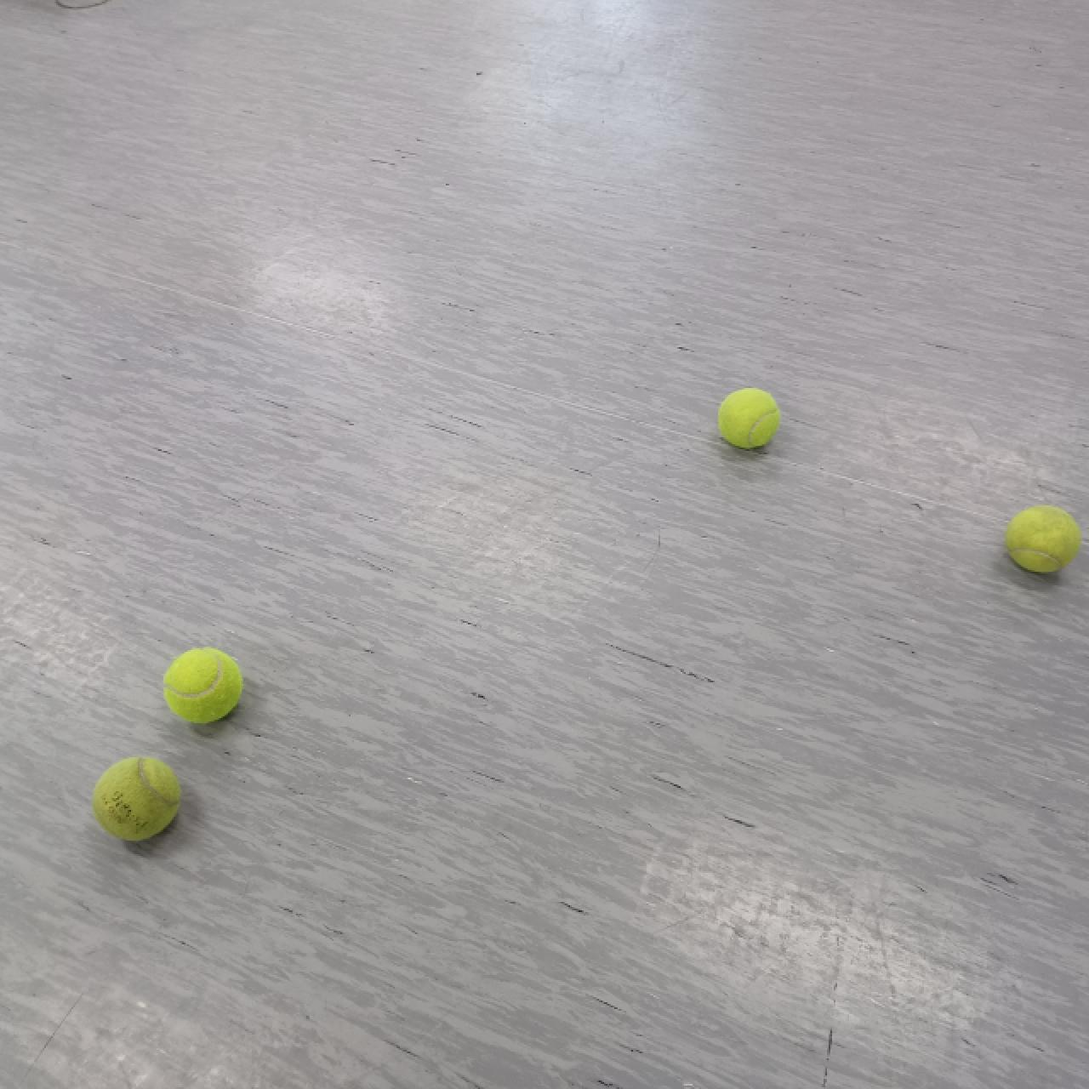tennis-ball: (93, 755, 183, 846), (162, 645, 244, 729), (1004, 503, 1080, 577), (713, 385, 780, 450)
